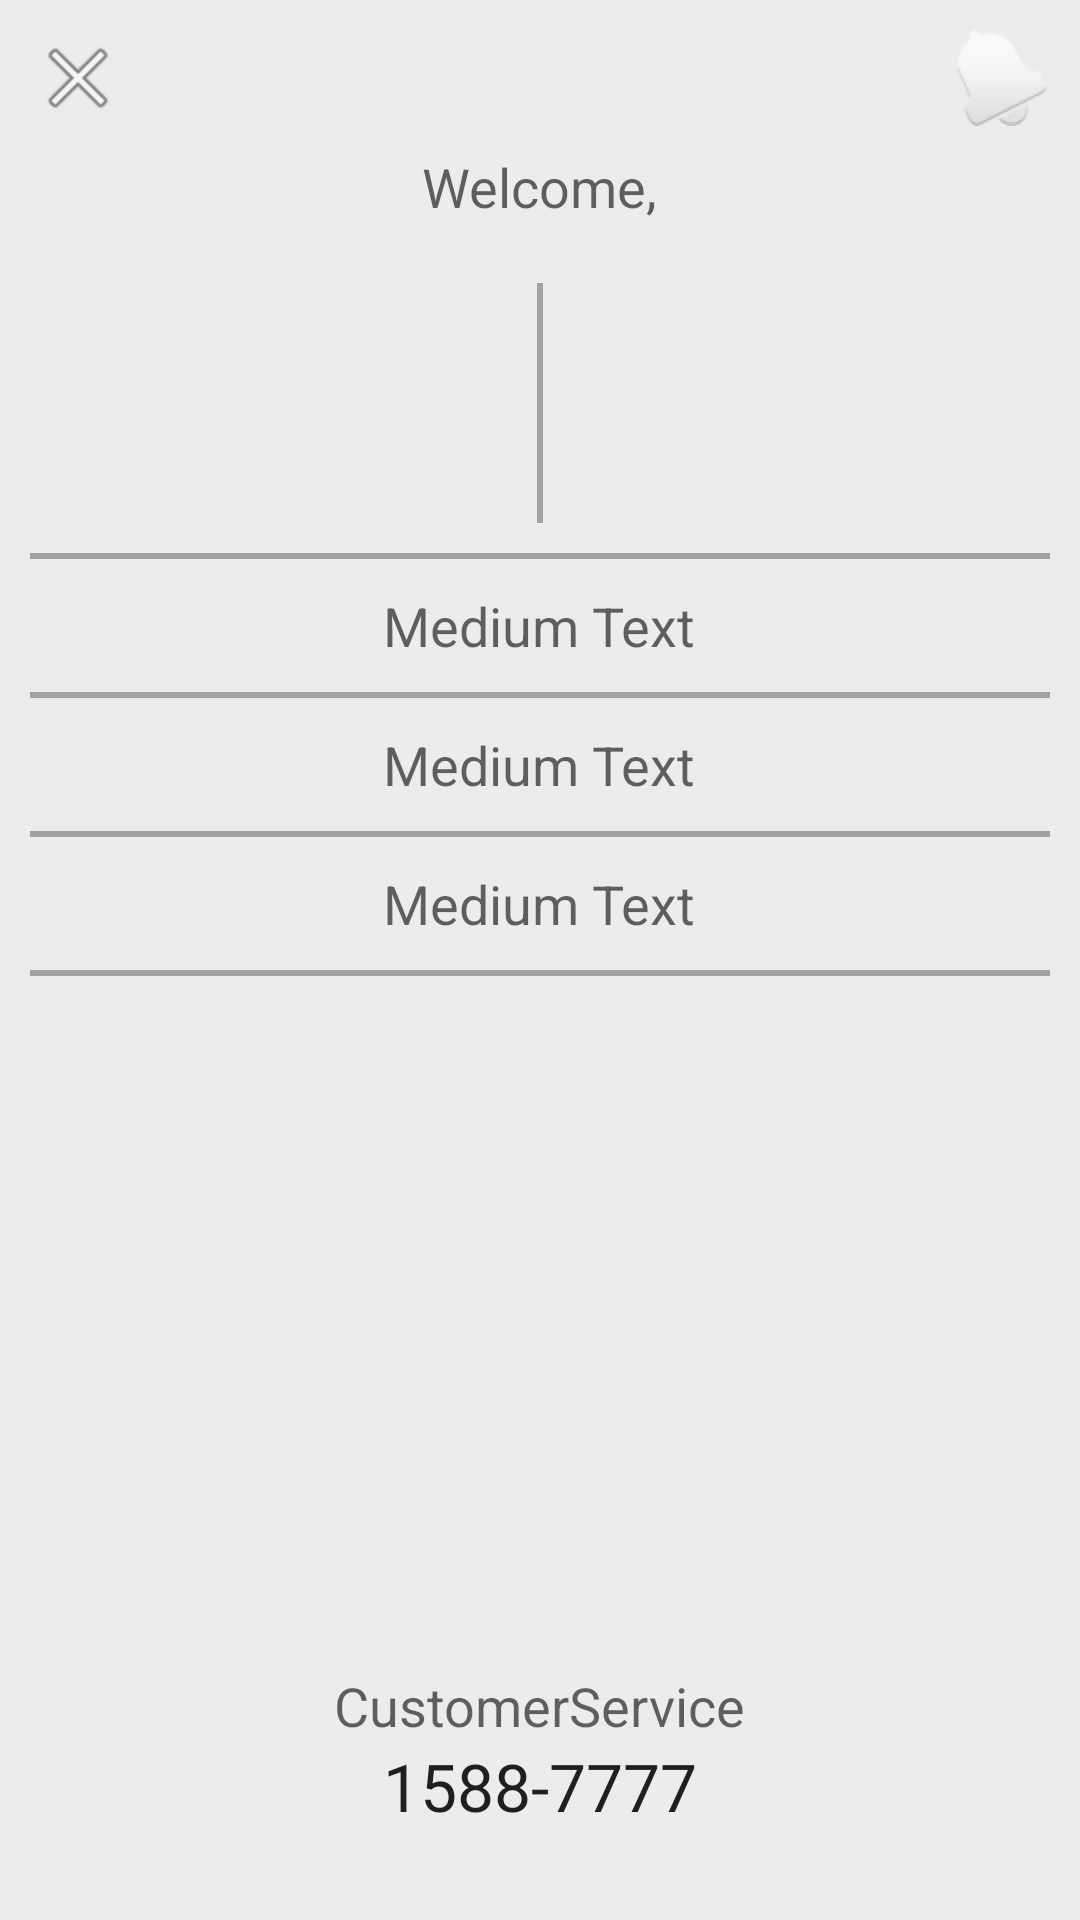

Screen size 1080px×1920px. Icon name, then its center in pixels as [x,y]:
close clear cancel: [78,78]
